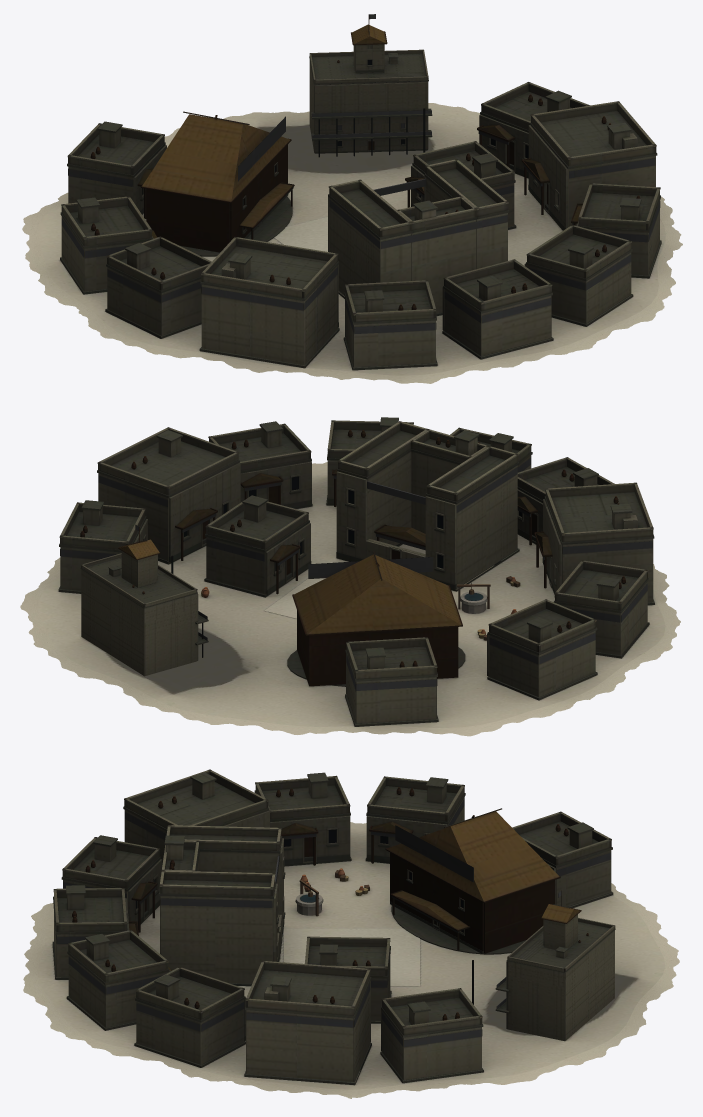
Rendered from gunpowder-town-medium-b-eastafrica-d3ad50cb.glb.
3 views of the same model, one above another, from view 1: azimuth 30°, elevation 25°; view 2: azimuth 150°, elevation 25°; view 3: azimuth 270°, elevation 25° (orthographic).
Visible parts, largest first — view 1: LOD0; view 2: LOD0; view 3: LOD0.
Boxes of the visible parts, box(x1,y1,x2,y2) form: LOD0: box(22, 14, 682, 383); LOD0: box(20, 417, 680, 736); LOD0: box(23, 769, 679, 1098).
Size of what is drawn, in the model's own units: 5.94 by 1.23 by 5.96.
3 materials, 3 textured.
